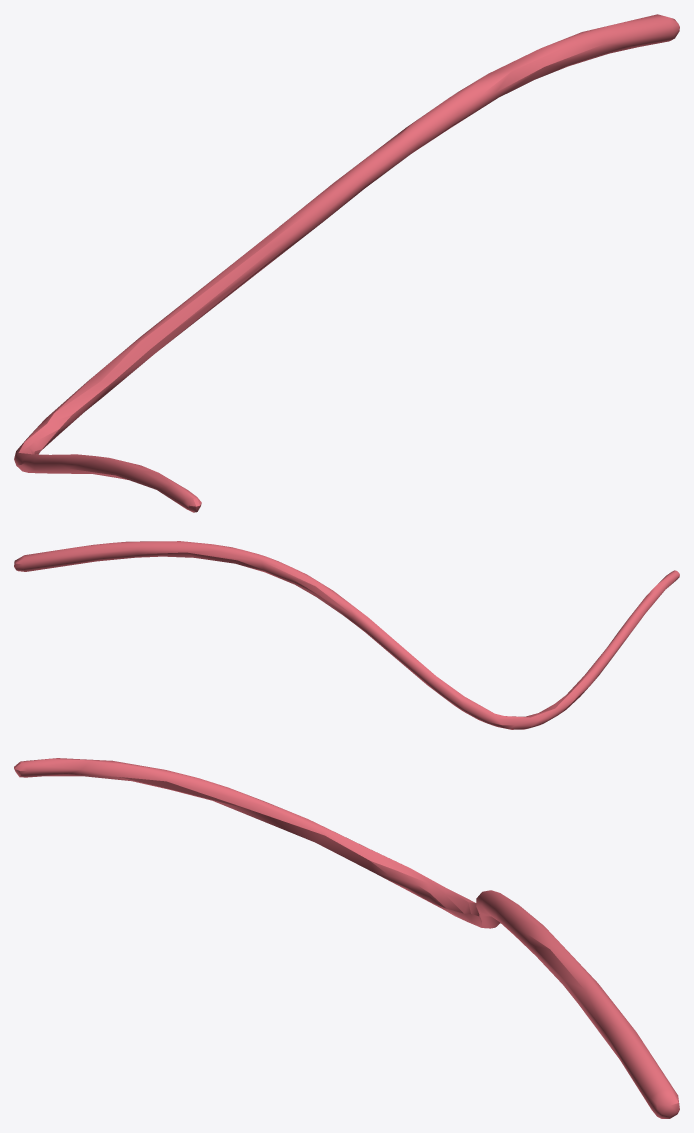
Rendered from fma51902_fj4994.glb.
3 renders of one model, top to bottom at view 1: azimuth 30°, elevation 25°; view 2: azimuth 150°, elevation 25°; view 3: azimuth 270°, elevation 25°, orthographic. The views are drawn at different scales.
Parts seen in each view (by area): view 1: FMA51902_FJ4994; view 2: FMA51902_FJ4994; view 3: FMA51902_FJ4994.
Boxes of the visible parts, x1,y1,x2,y2 form: FMA51902_FJ4994: (14, 14, 679, 512); FMA51902_FJ4994: (14, 541, 679, 729); FMA51902_FJ4994: (14, 758, 679, 1118).
Size of the model in its own units: 0.0215 by 0.00562 by 0.0148.
